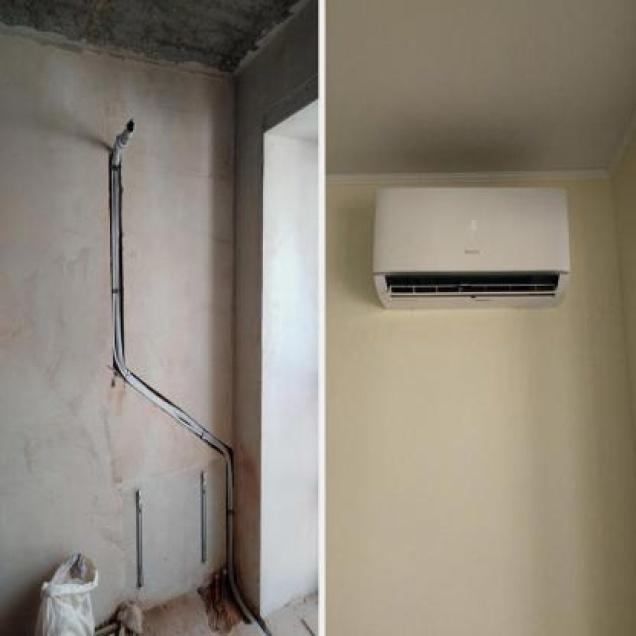AC: (371, 185, 571, 311)
